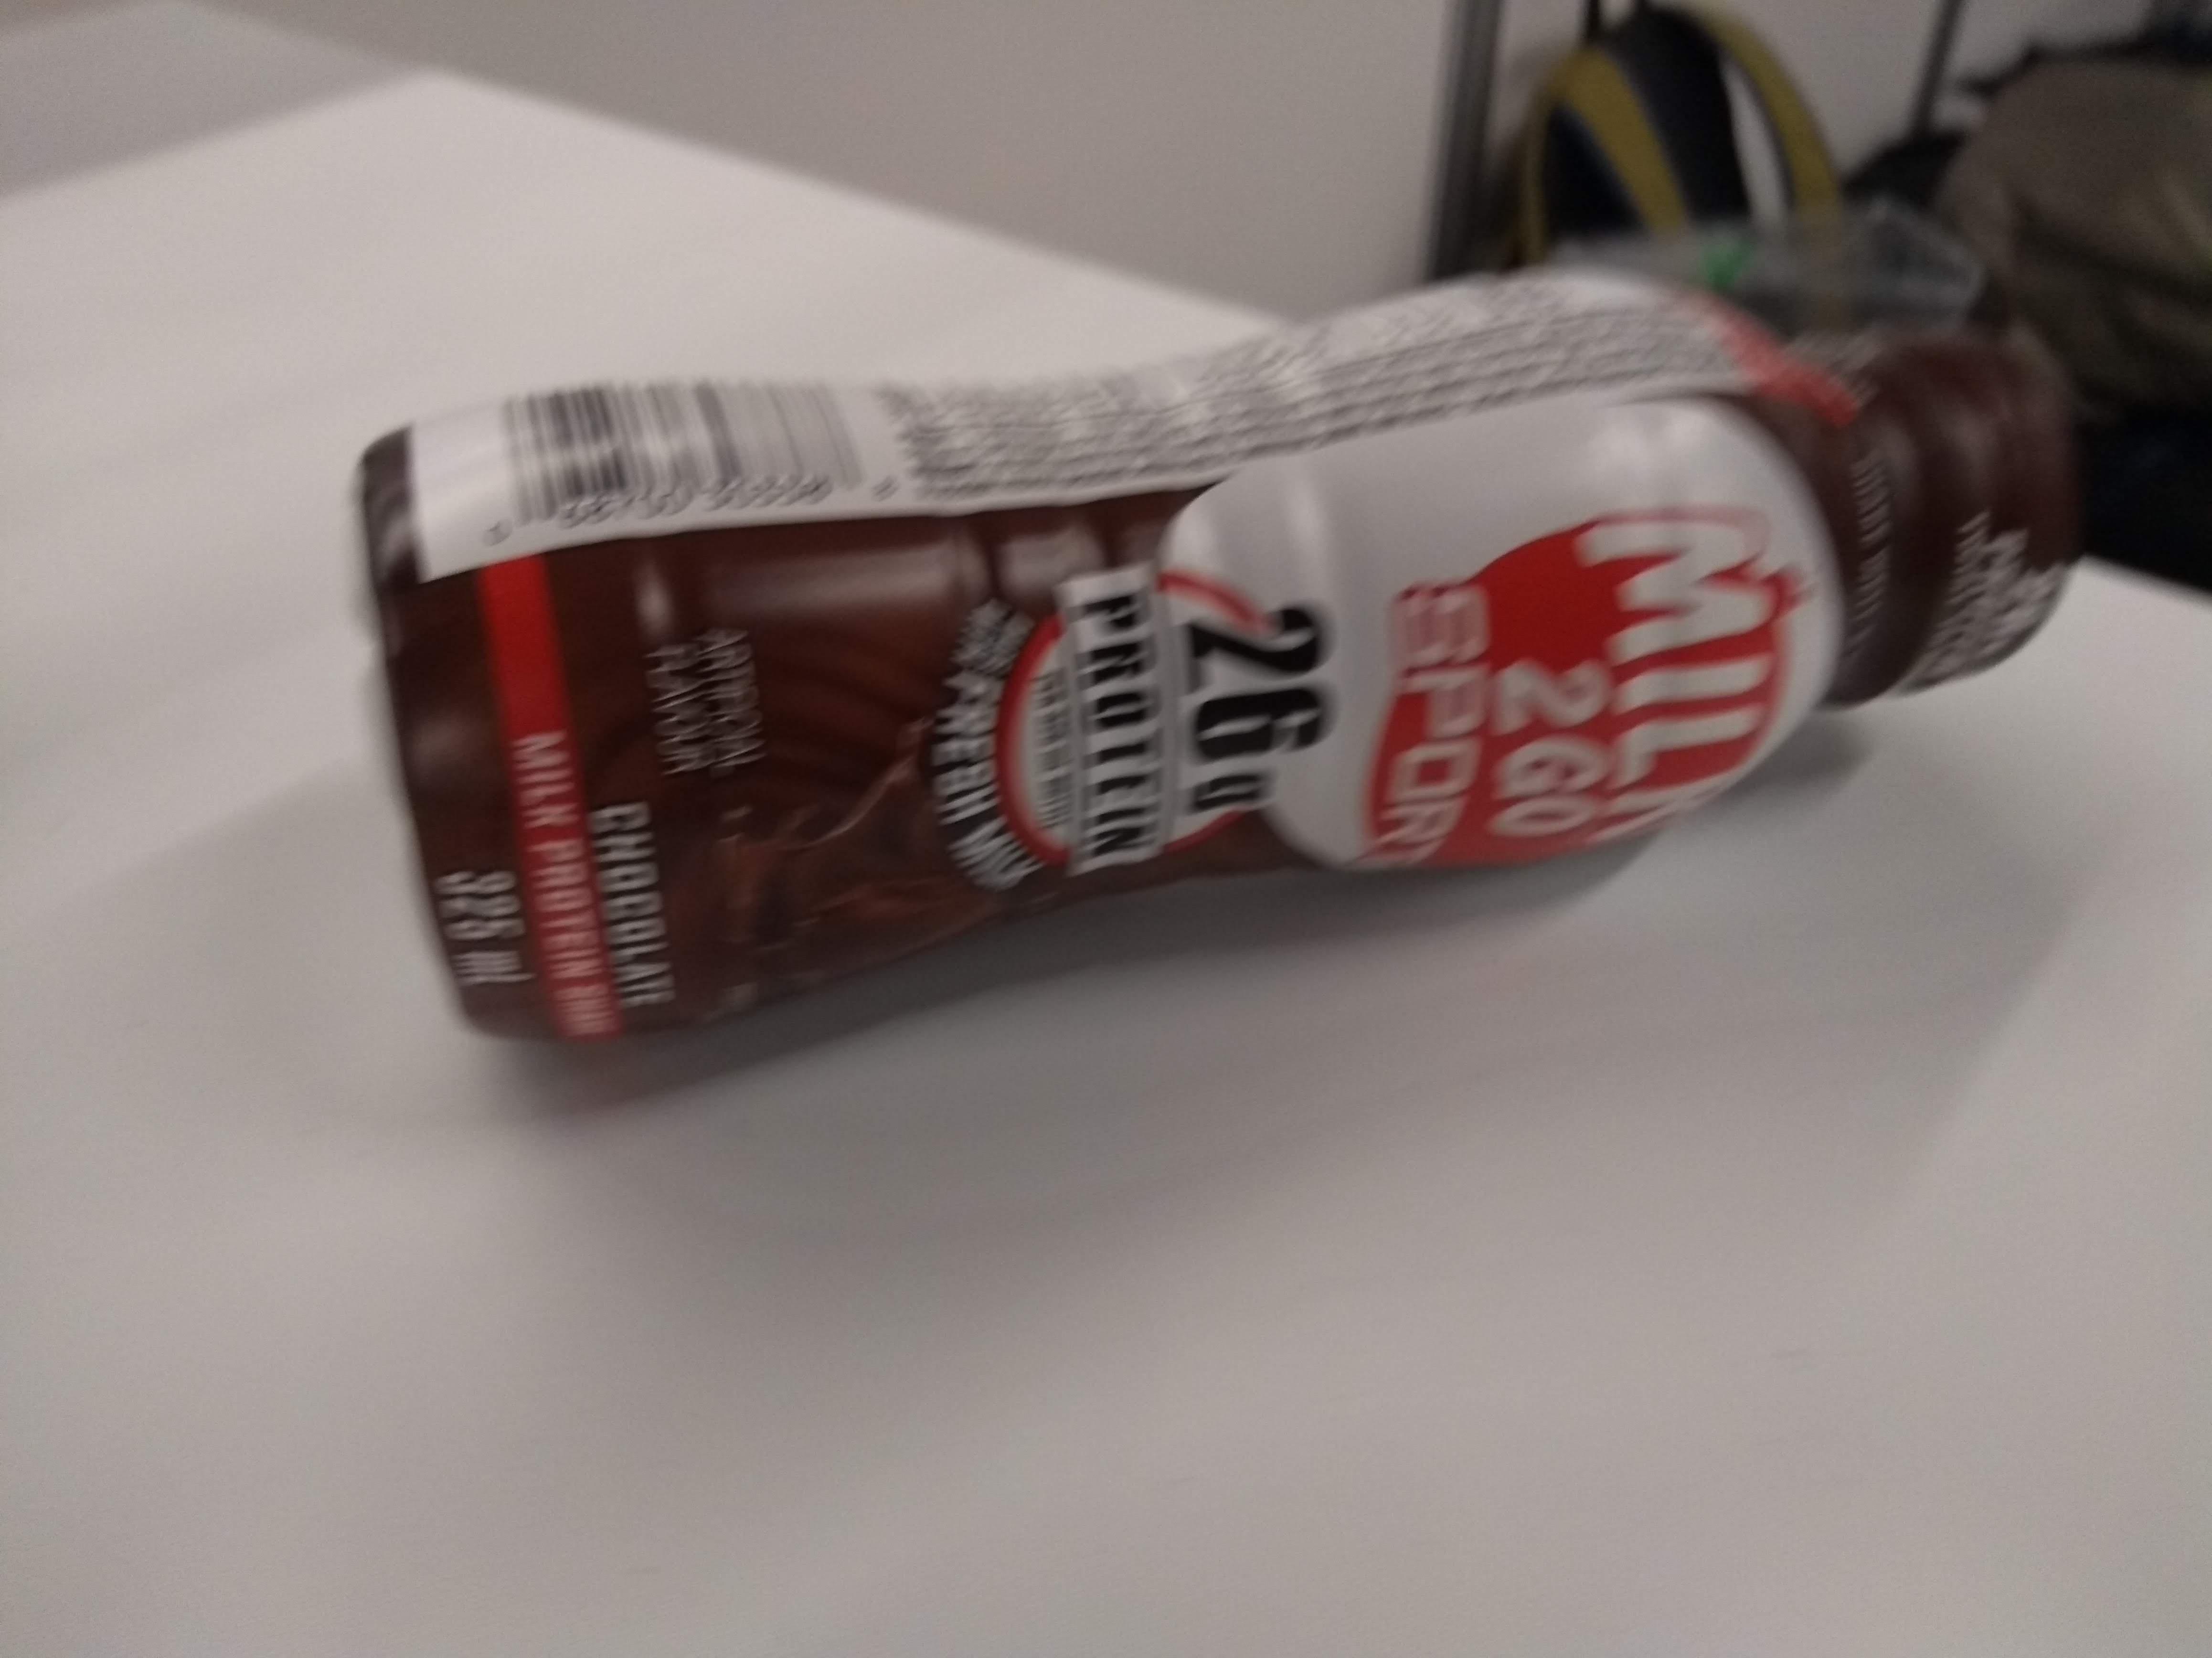chocolate_drink: (327, 289, 2104, 1066)
